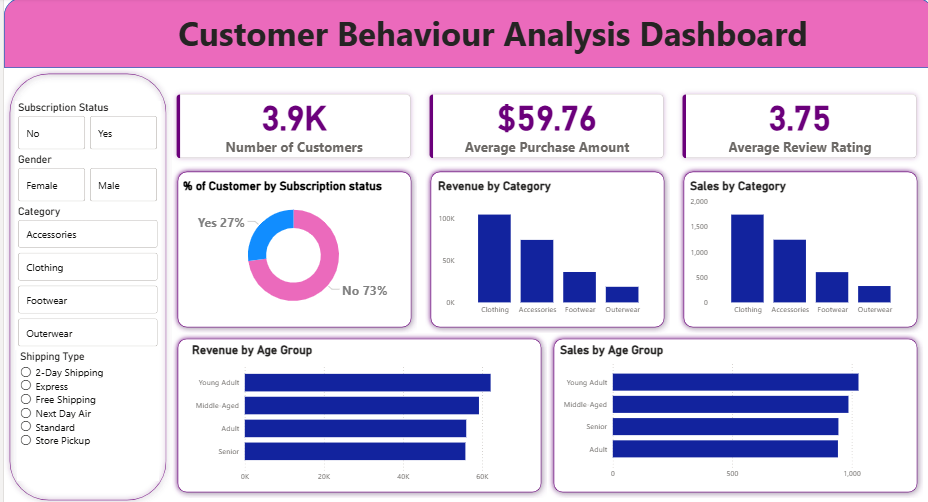

This screenshot's page, from the dashboard's own definition file:
{"tool":"powerbi","page":{"name":"Page 1","canvas":[1500,820],"ordinal":0},"visuals":[{"type":"cardVisual","fields":{"Data":["public customer.Number of Customers","public customer.Average Purchase Amount","public customer.Average Review Rating"]},"box":[250,127.4,1250,159.7],"z":0},{"type":"shape","box":[0,0,1500,112.9],"z":1000},{"type":"textbox","box":[166.1,14.5,1245.2,98.4],"z":2000},{"type":"shape","box":[271,271,395.2,269.4],"z":3000},{"type":"donutChart","title":"% of Customer by Subscription status","fields":{"Category":["public customer.subscription_status"],"Y":["CountNonNull(public customer.customer_id)"]},"box":[283.9,291.9,366.1,224.2],"z":4000},{"type":"shape","box":[679,271,395.2,269.4],"z":4001},{"type":"shape","box":[1087.1,271,395.2,269.4],"z":4002},{"type":"clusteredColumnChart","title":"Revenue by Category","fields":{"Y":["Sum(public customer.purchase_amount)"],"Category":["public customer.category"]},"box":[695.2,291.9,362.9,229],"z":4003},{"type":"clusteredColumnChart","title":"Sales by Category","fields":{"Y":["CountNonNull(public customer.customer_id)"],"Category":["public customer.category"]},"box":[1101.6,291.9,362.9,229],"z":4004},{"type":"shape","box":[0,112.9,271,706.5],"z":4005},{"type":"advancedSlicerVisual","fields":{"Values":["public customer.subscription_status"]},"box":[17.7,166.1,235.5,83.9],"z":4006},{"type":"advancedSlicerVisual","fields":{"Values":["public customer.gender"]},"box":[17.7,250,235.5,83.9],"z":4007},{"type":"advancedSlicerVisual","fields":{"Values":["public customer.category"]},"box":[17.7,333.9,235.5,233.9],"z":4008},{"type":"listSlicer","fields":{"Values":["public customer.shipping_type"]},"box":[21,567.7,229,211.3],"z":4009},{"type":"clusteredBarChart","title":"Revenue by Age Group","fields":{"Y":["Sum(public customer.purchase_amount)"],"Category":["public customer.age_group"]},"box":[298.4,567.7,551.6,222.6],"z":4010},{"type":"shape","box":[271,540.3,604.8,266.1],"z":4011},{"type":"shape","box":[877.4,540.3,604.8,266.1],"z":4012},{"type":"clusteredBarChart","title":"Revenue by Age Group","fields":{"Y":["Sum(public customer.purchase_amount)"],"Category":["public customer.age_group"]},"box":[298.4,556.5,551.6,233.9],"z":4013},{"type":"clusteredBarChart","title":"Sales by Age Group","fields":{"Y":["CountNonNull(public customer.customer_id)"],"Category":["public customer.age_group"]},"box":[891.9,556.5,572.6,229],"z":4014}]}

Visuals, with their boxes in screenshot pixels (x1, y1, x2, y2), scaled from the page's 1500x820 canvas onto the 928x502 screenshot:
cardVisual - public customer.Number of Customers x public customer.Average Purchase Amount: left=155, top=78, right=927, bottom=176
shape: left=0, top=0, right=927, bottom=69
textbox: left=103, top=9, right=873, bottom=69
shape: left=168, top=166, right=412, bottom=331
"% of Customer by Subscription status" donutChart: left=176, top=179, right=402, bottom=316
shape: left=420, top=166, right=665, bottom=331
shape: left=673, top=166, right=917, bottom=331
"Revenue by Category" clusteredColumnChart: left=430, top=179, right=655, bottom=319
"Sales by Category" clusteredColumnChart: left=682, top=179, right=906, bottom=319
shape: left=0, top=69, right=168, bottom=501
advancedSlicerVisual - public customer.subscription_status: left=11, top=102, right=157, bottom=153
advancedSlicerVisual - public customer.gender: left=11, top=153, right=157, bottom=204
advancedSlicerVisual - public customer.category: left=11, top=204, right=157, bottom=348
listSlicer - public customer.shipping_type: left=13, top=348, right=155, bottom=477
"Revenue by Age Group" clusteredBarChart: left=185, top=348, right=526, bottom=484
shape: left=168, top=331, right=542, bottom=494
shape: left=543, top=331, right=917, bottom=494
"Revenue by Age Group" clusteredBarChart: left=185, top=341, right=526, bottom=484
"Sales by Age Group" clusteredBarChart: left=552, top=341, right=906, bottom=481
